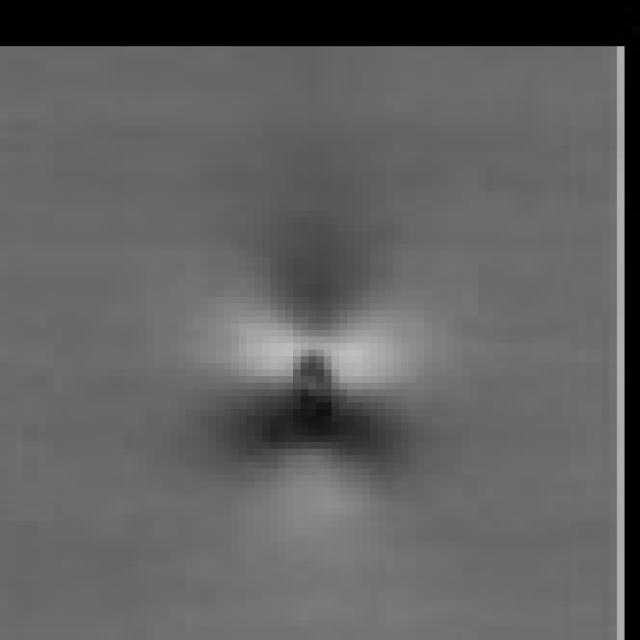Defect1: (159, 222, 502, 505)
